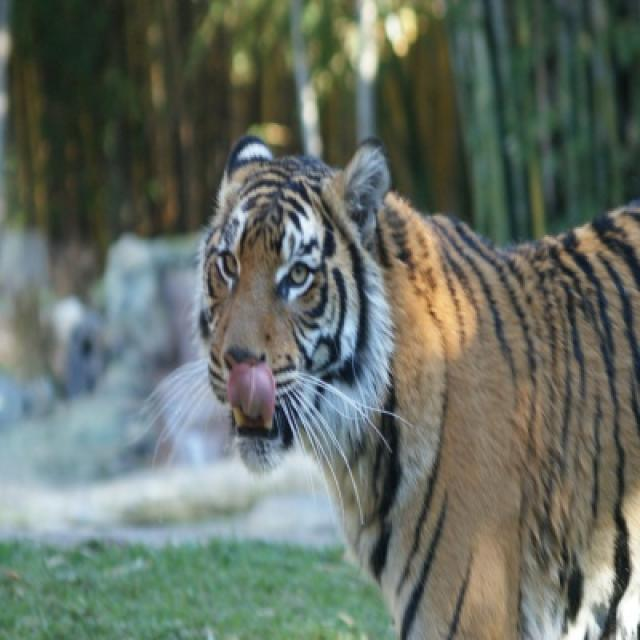Tiger: (194, 134, 638, 638)
